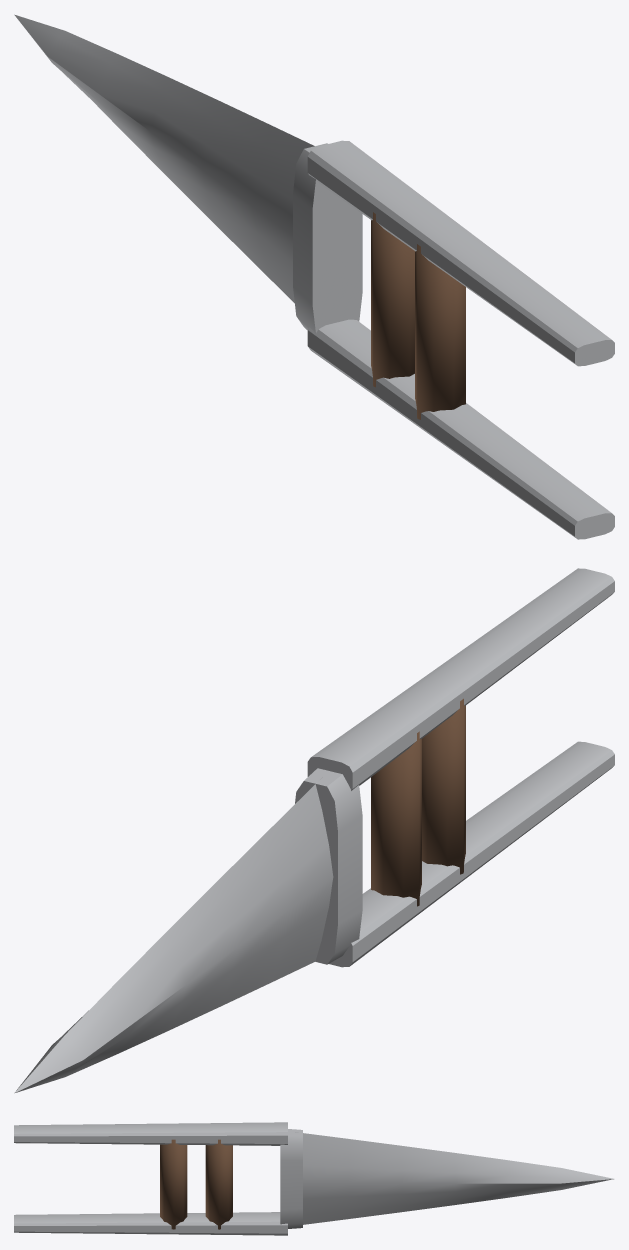
Rendered from punching-dagger.glb.
The picture shows the model from 3 angles, top to bottom: view 1: azimuth 30°, elevation 25°; view 2: azimuth 150°, elevation 25°; view 3: azimuth 270°, elevation 25°; orthographic projection. The views are drawn at different scales.
Visible parts, largest first — view 1: punching-dagger; view 2: punching-dagger; view 3: punching-dagger.
Part boxes in pixels (<box>): punching-dagger: <box>14,14,614,539</box>; punching-dagger: <box>14,568,614,1093</box>; punching-dagger: <box>14,1122,613,1235</box>.
Size of the model in its own units: 0.0393 by 0.1536 by 0.79.
